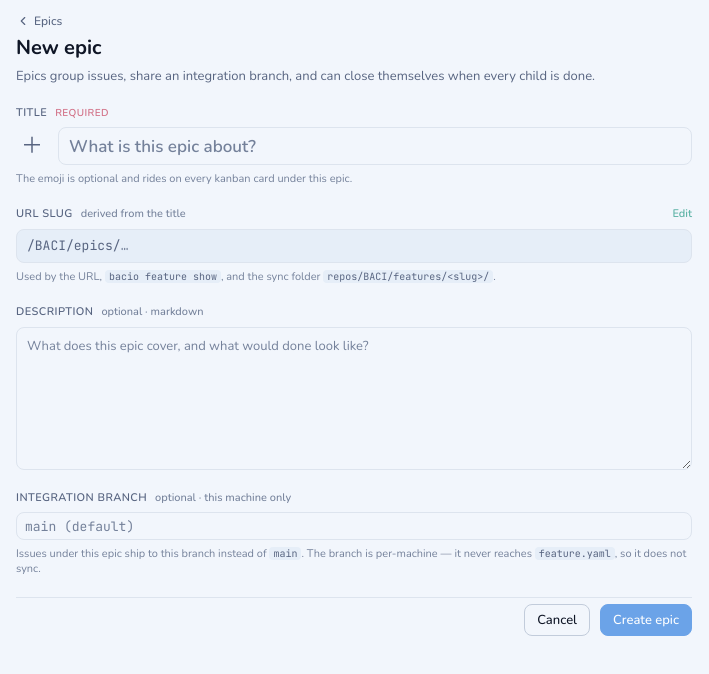
it: NewEpicPage — the hand-edited slug › goes back to following the title on Reset
Type "Unified create affordance" into the field labelled "Title" at (375, 146), box [58, 127, 692, 165]
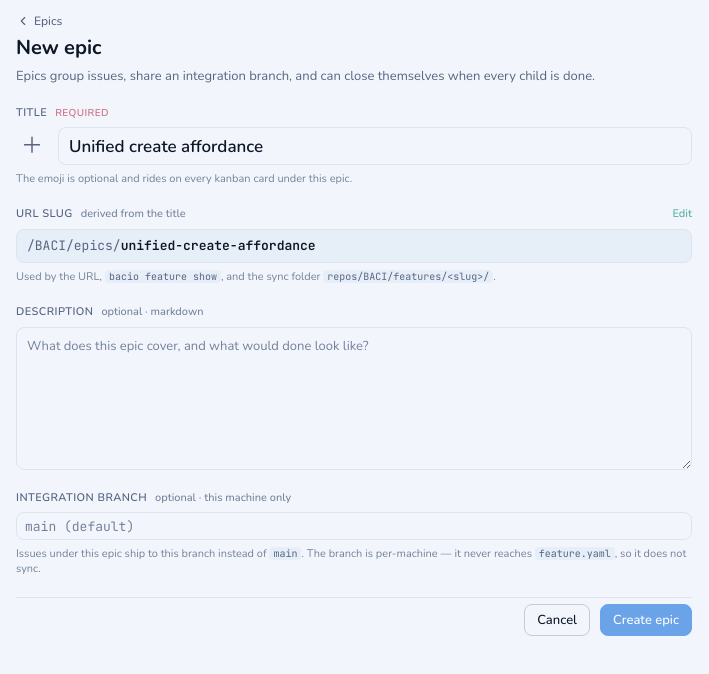
Click the button "Edit" at (682, 214), box [672, 206, 692, 221]
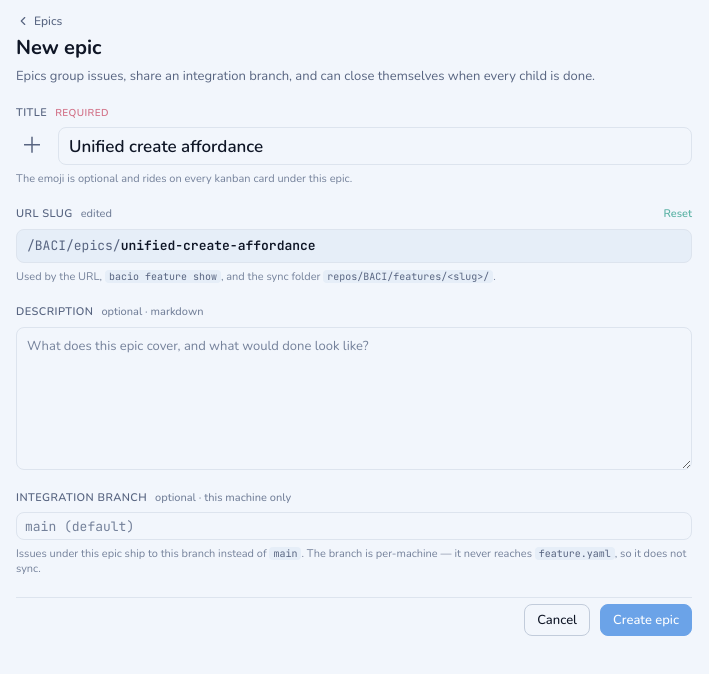
Clear the field labelled "URL slug" at (401, 246), box [121, 230, 681, 262]
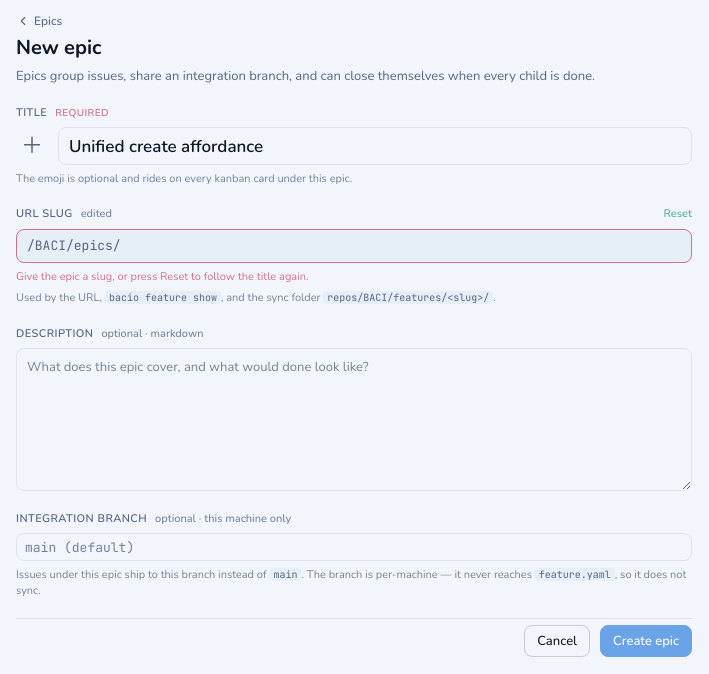
Click the button "Reset" at (678, 214), box [664, 206, 692, 221]
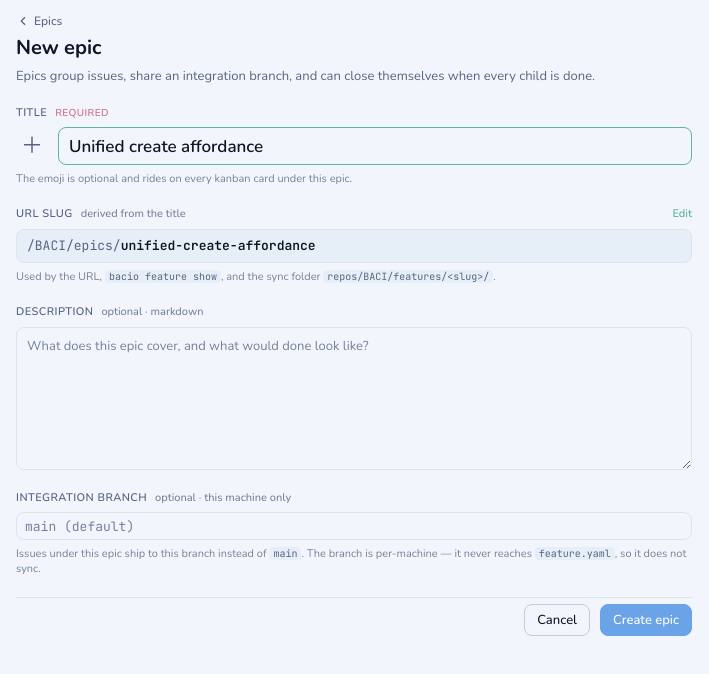
Now the text "unified-create-affordance" is shown, box [121, 236, 316, 256]
Now the button "Create epic" is enabled, box [600, 604, 692, 636]
